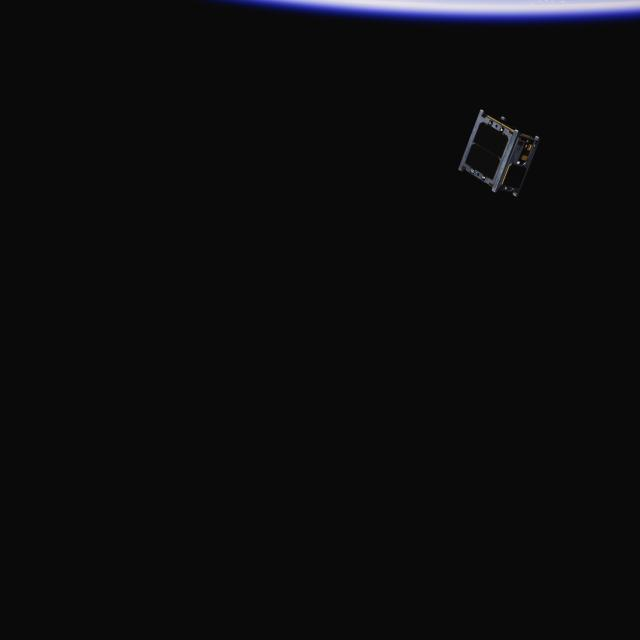medium_debris: (455, 108, 541, 204)
